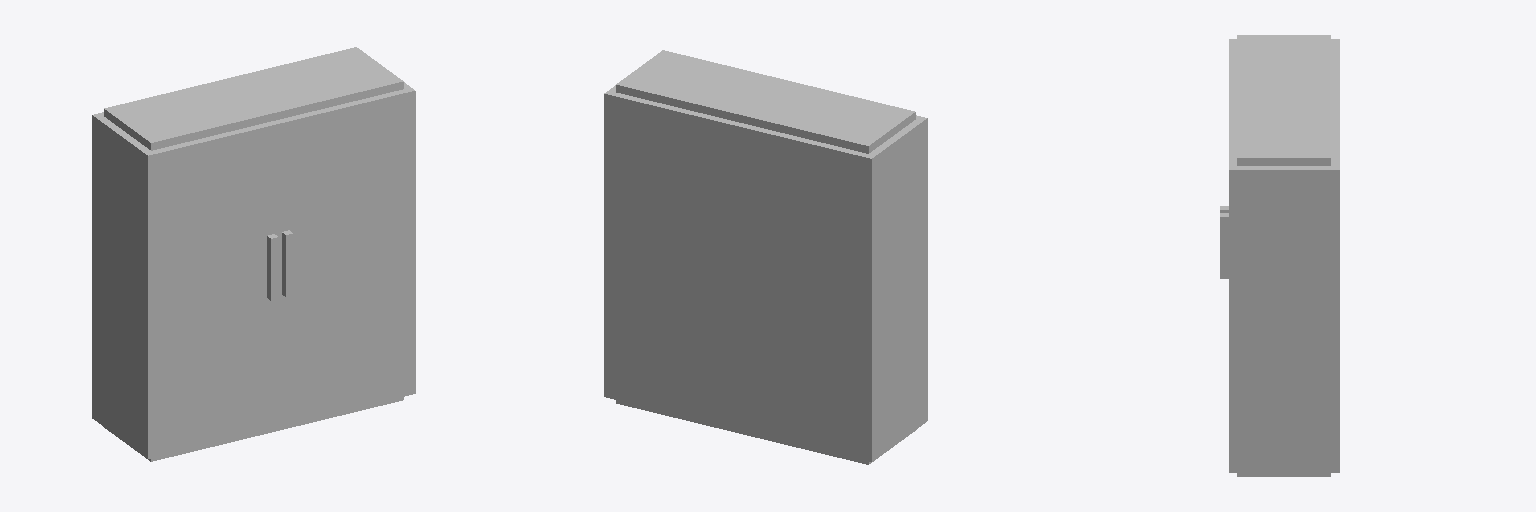
The model's file is Fridge.obj.
The picture shows the model from 3 angles: view 1: azimuth 30°, elevation 25°; view 2: azimuth 150°, elevation 25°; view 3: azimuth 270°, elevation 25°; orthographic projection.
Size of the model in its own units: 36 by 41 by 14.